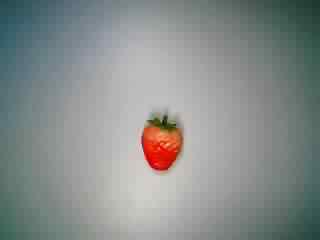strawberry: (122, 109, 195, 176)
